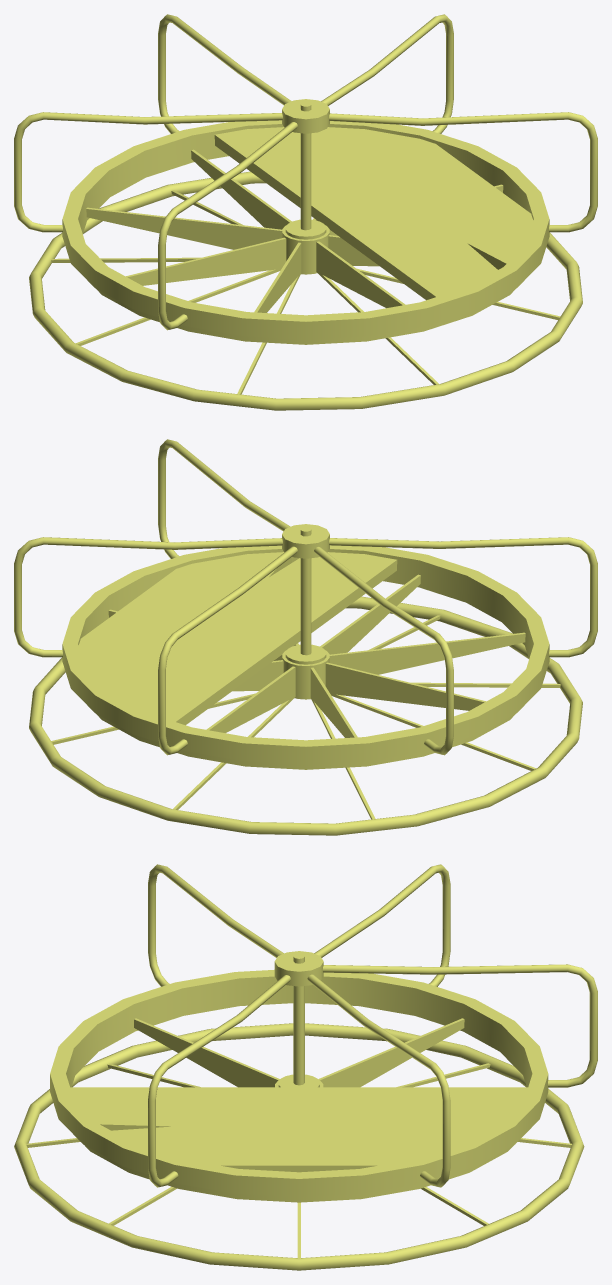
File: carousel_001.fbx
The picture shows the model from 3 angles, top to bottom: view 1: azimuth 30°, elevation 25°; view 2: azimuth 150°, elevation 25°; view 3: azimuth 270°, elevation 25°; orthographic projection. The views are drawn at different scales.
Visible parts, largest first — view 1: carousel_002, carousel_001; view 2: carousel_002, carousel_001; view 3: carousel_002, carousel_001.
Boxes of the visible parts, left/top/right/bottom form: carousel_002: left=14, top=14, right=597, bottom=344; carousel_001: left=29, top=171, right=582, bottom=410; carousel_002: left=14, top=439, right=597, bottom=769; carousel_001: left=29, top=596, right=582, bottom=835; carousel_002: left=50, top=864, right=597, bottom=1202; carousel_001: left=14, top=1023, right=584, bottom=1270.
Size of the model in its own units: 205 by 77.19 by 210.
